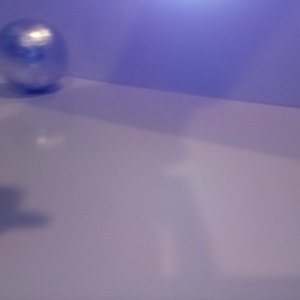alive_ball: (1, 17, 67, 89)
